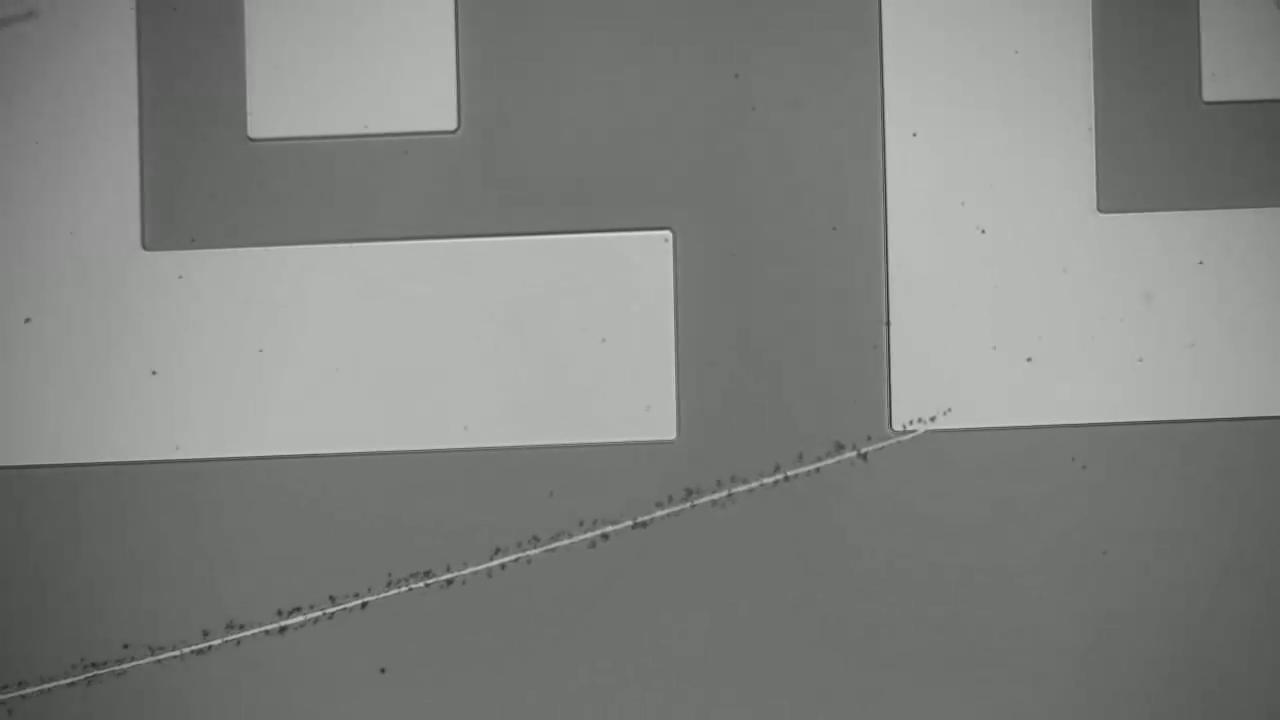scratch: (5, 431, 924, 701)
